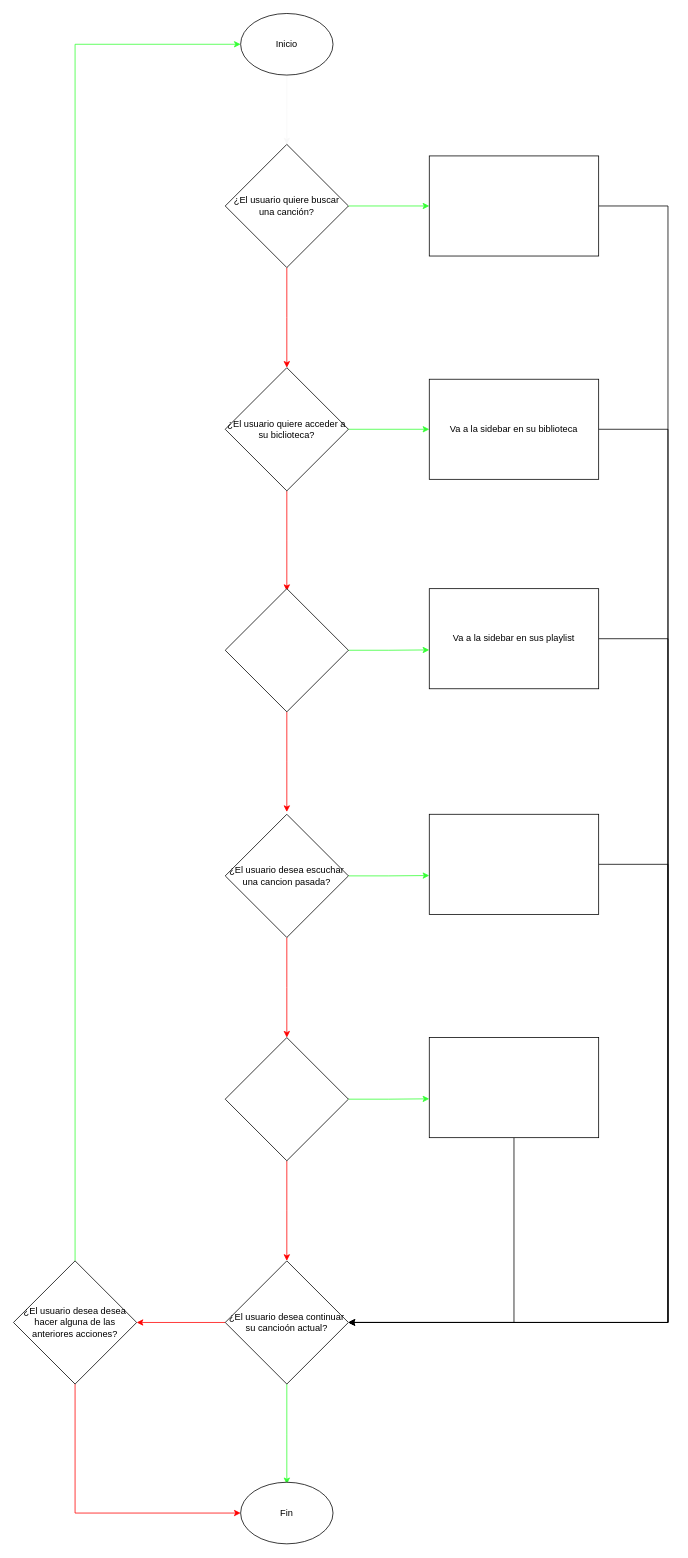
Image size: 688x1558. Some labels were removed from this diagram. Each missing label, with the box of its shape:
Accede al boton de busqueda: (429, 155, 599, 256)
Va a la seccion de premium: (429, 1037, 599, 1138)
Va a la seccion de recientemente escuchado: (429, 814, 599, 914)
¿El usuario quiere acceder a sus playlists: (224, 588, 348, 712)
¿El usuario quiere pagar premium?: (224, 1037, 348, 1161)
